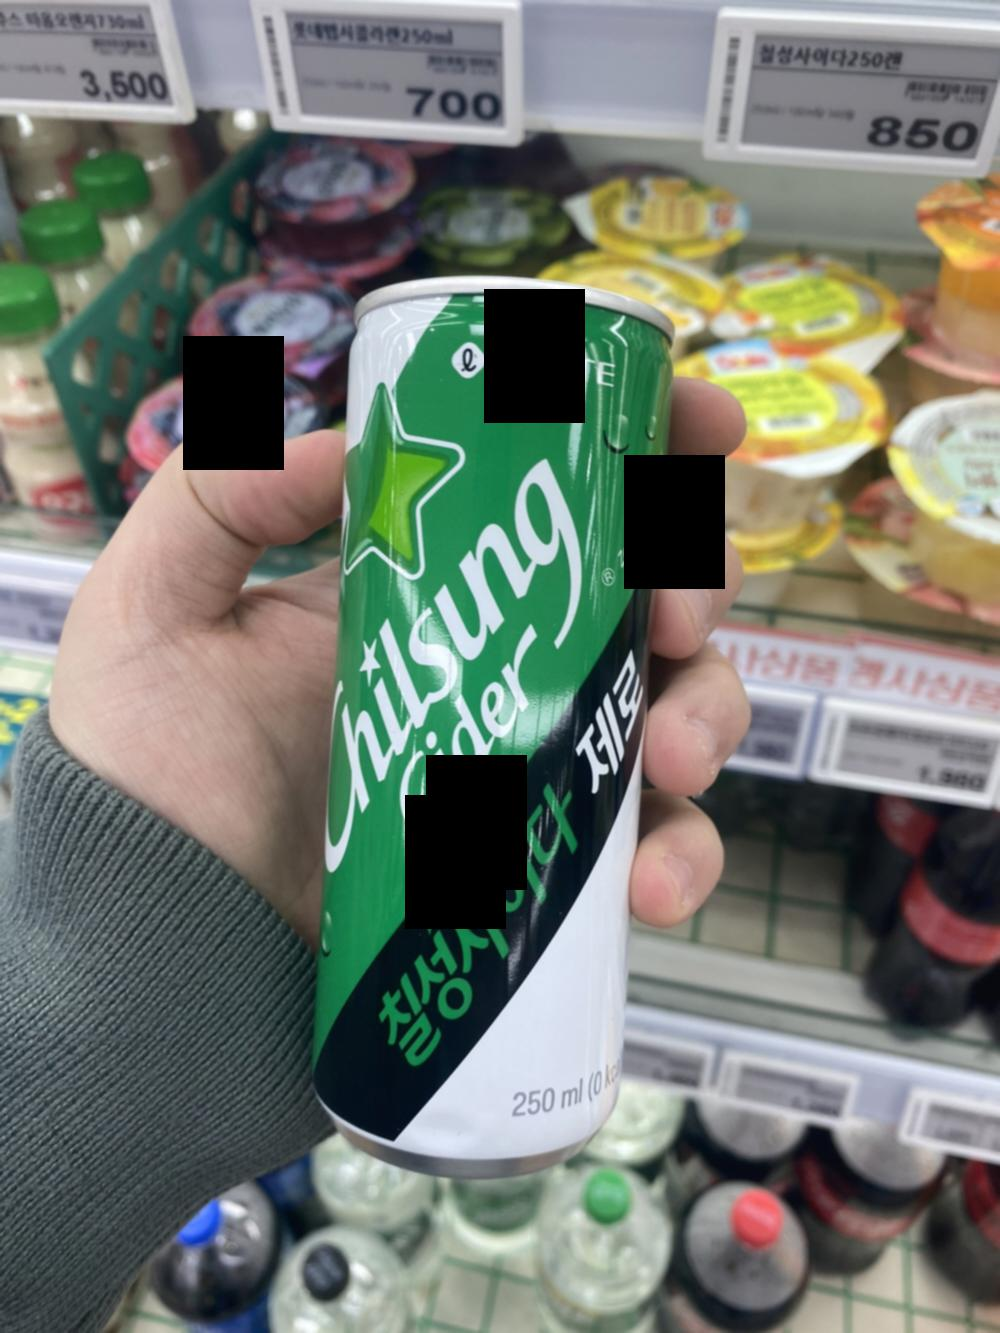chilsungcider_zero: (321, 266, 666, 1174)
